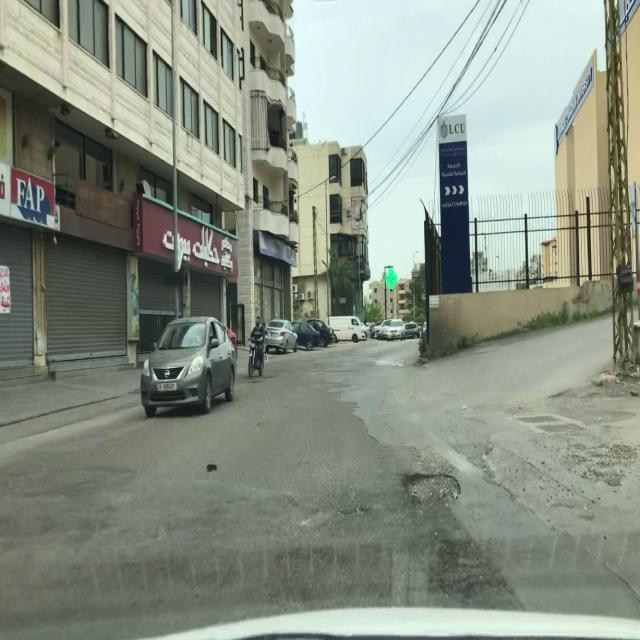pothole: (404, 470, 464, 510), (262, 375, 277, 382), (246, 380, 262, 385)
